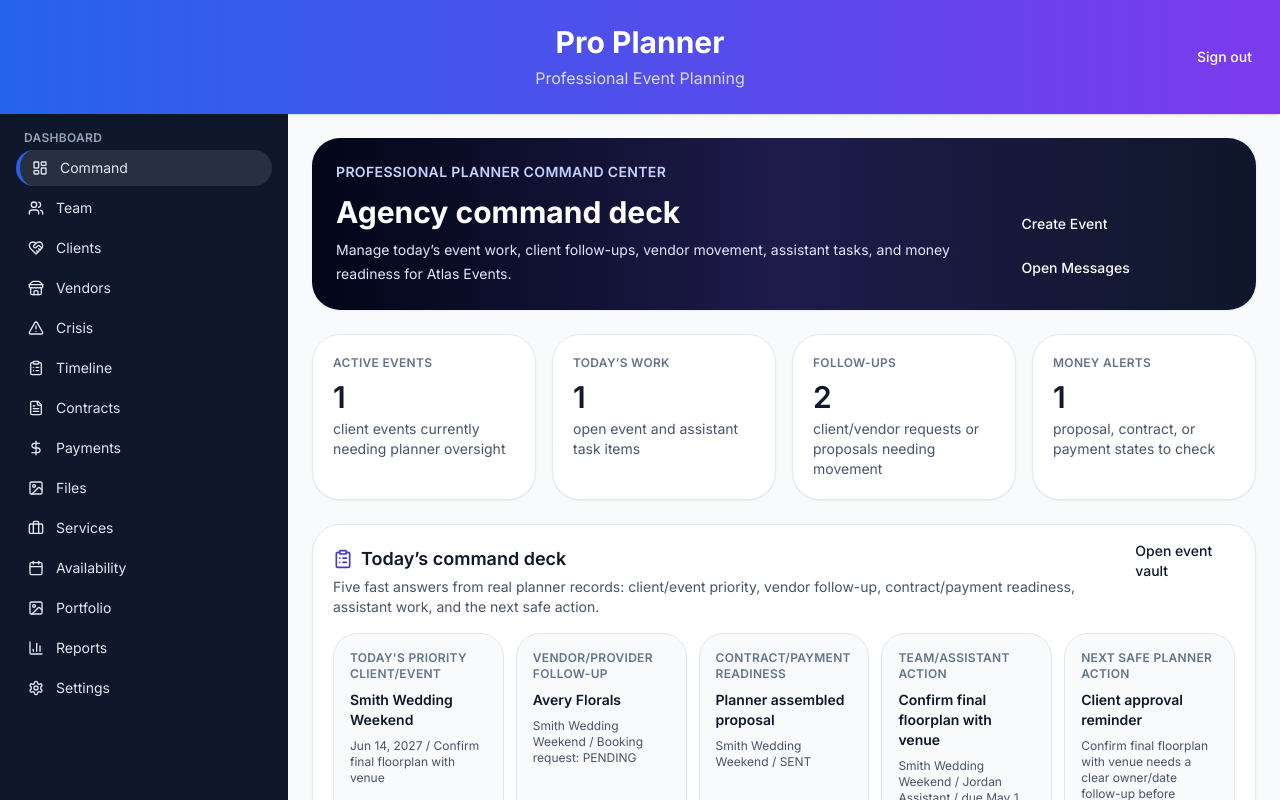
Test case: ProPlannerDashboard › does not label planner-sent listing-backed proposals as provider-backed without provider evidence
The image size is (1280, 800).
Check: the text "Planner assembled proposal" is shown, box [716, 690, 852, 730]
Step 1. Click the button "Payments" → (144, 448), box [16, 430, 272, 466]
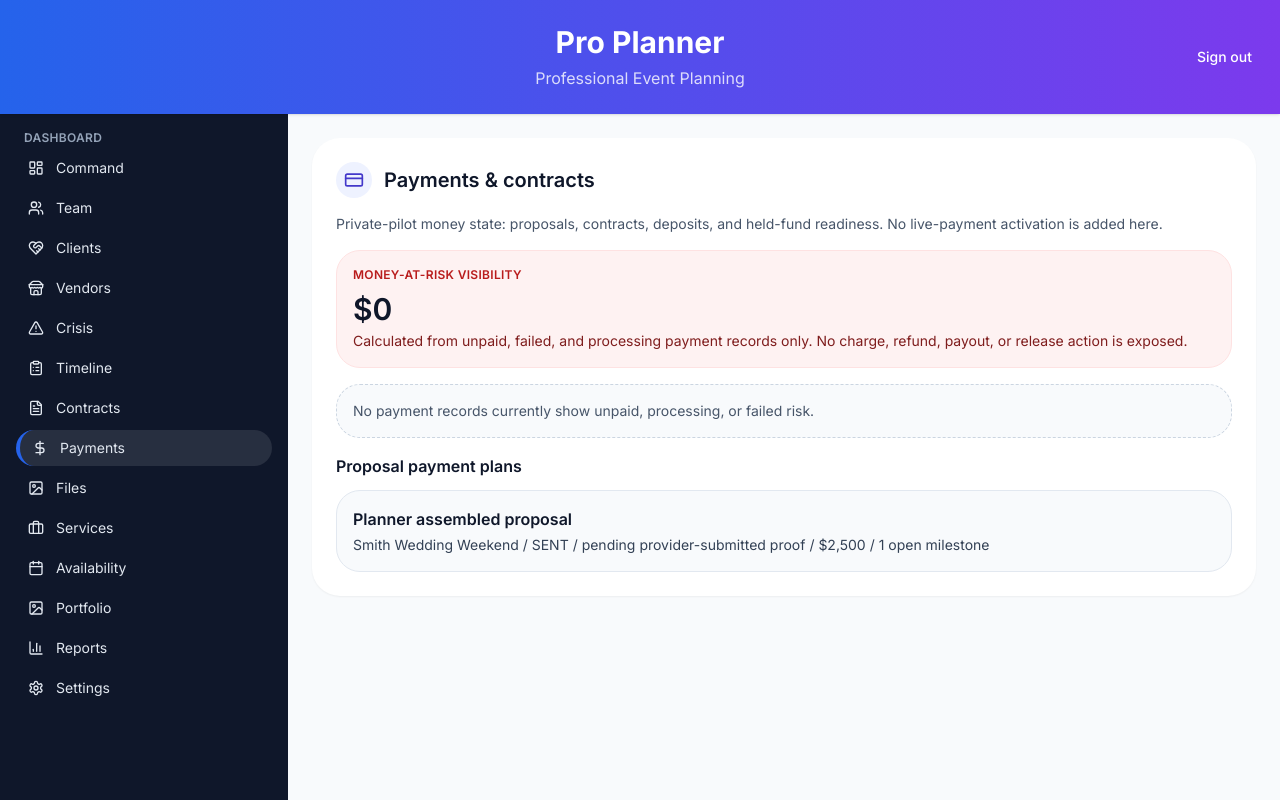
Check: the text "pending provider-submitted proof" is shown, box [582, 536, 805, 552]
